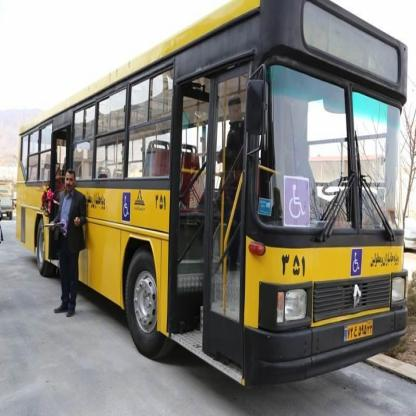Bus: (16, 0, 410, 395)
Car: (0, 176, 13, 222)
